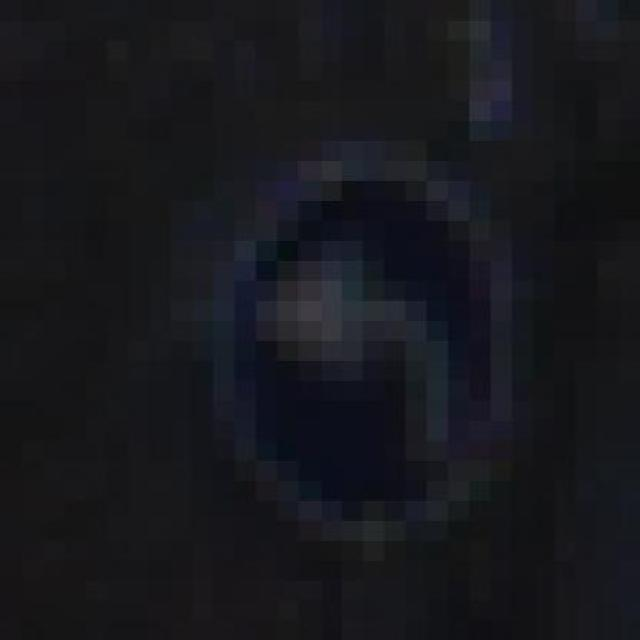Turn left ahead: (192, 120, 554, 540)
